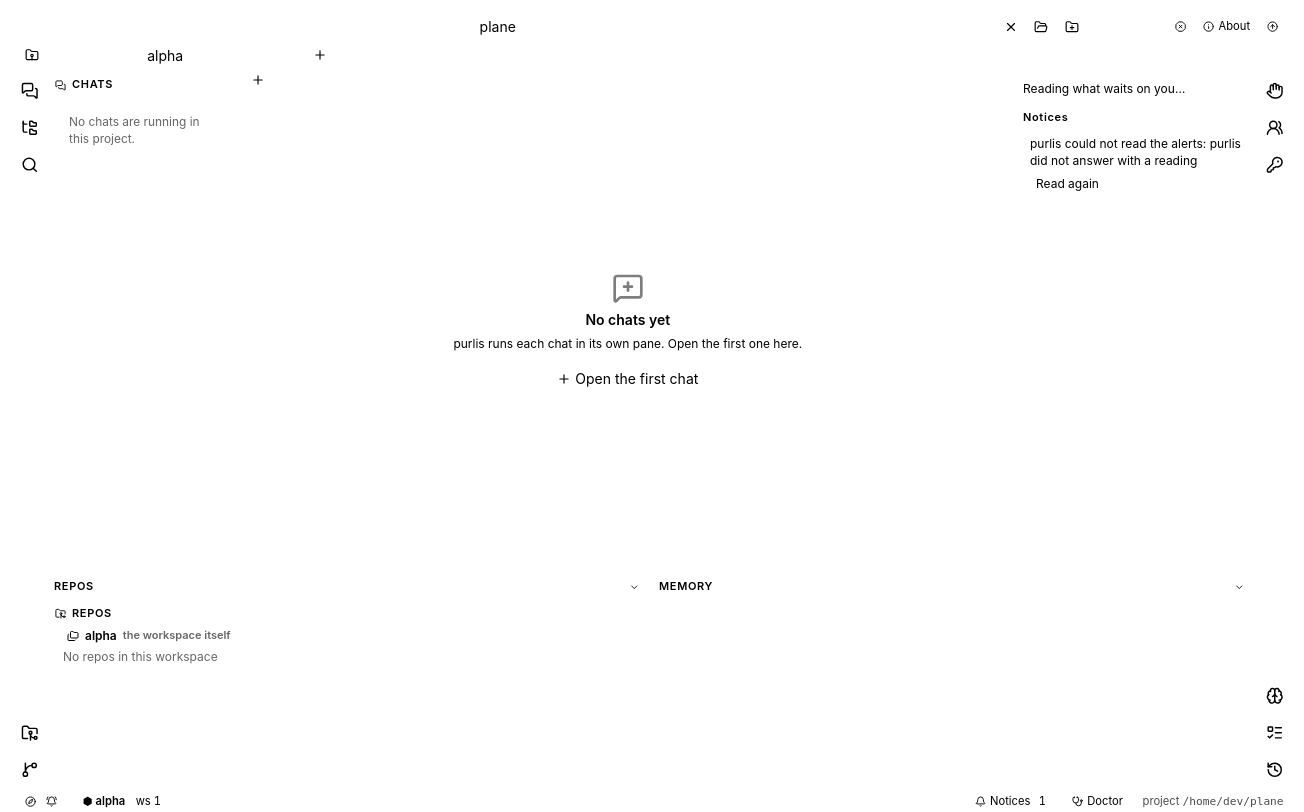
Test: the Sessions panel › lists the workspace's session records newest first, marking the resumable
Click the tab named "Sessions" at (1274, 770), box [1257, 752, 1292, 787]
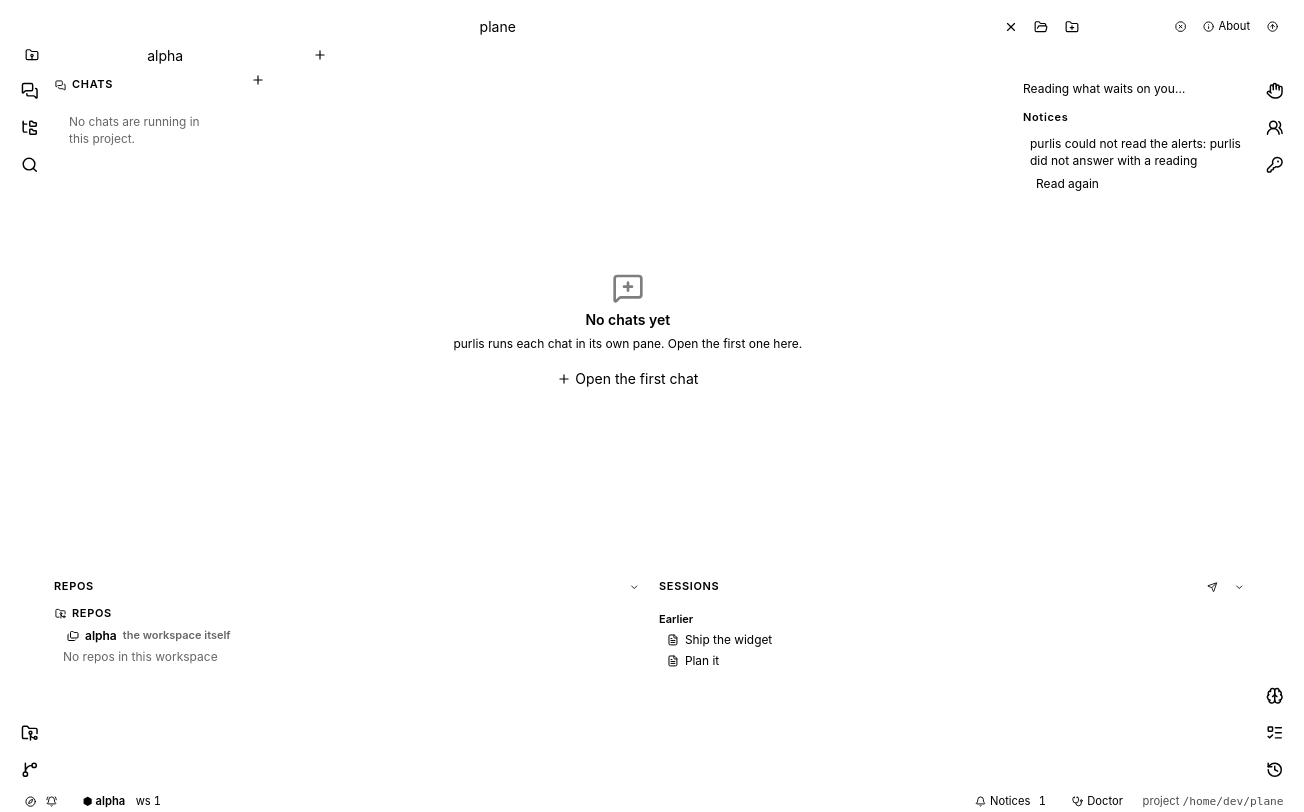
Expected: the text "Ship the widget" is shown, [685, 632, 772, 647]
